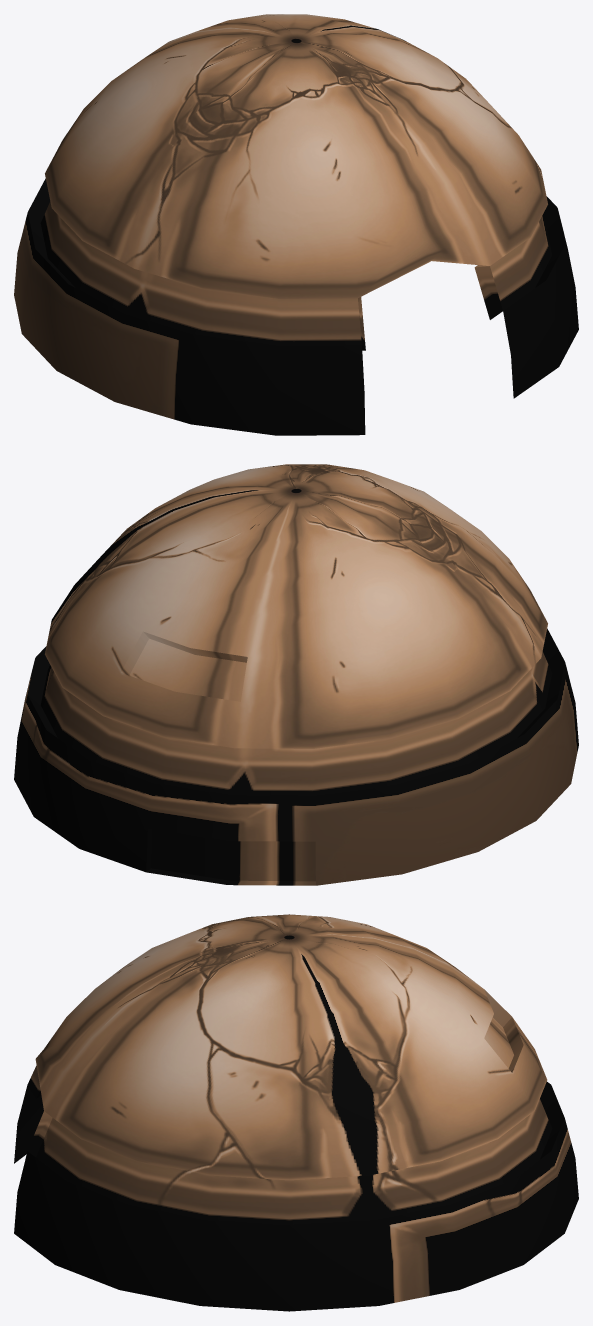
Rendered from plafond_caverne_backfaceculling.fbx.
3 renders of one model, top to bottom at view 1: azimuth 30°, elevation 25°; view 2: azimuth 150°, elevation 25°; view 3: azimuth 270°, elevation 25°, orthographic. The views are drawn at different scales.
Visible parts, largest first — view 1: palfond; view 2: palfond; view 3: palfond.
Part boxes in pixels (left/top/right/bottom): palfond: left=14, top=14, right=578, bottom=435; palfond: left=14, top=464, right=578, bottom=885; palfond: left=14, top=914, right=578, bottom=1311.
Bounding box in the file's own units: 1653 × 899 × 1750.
